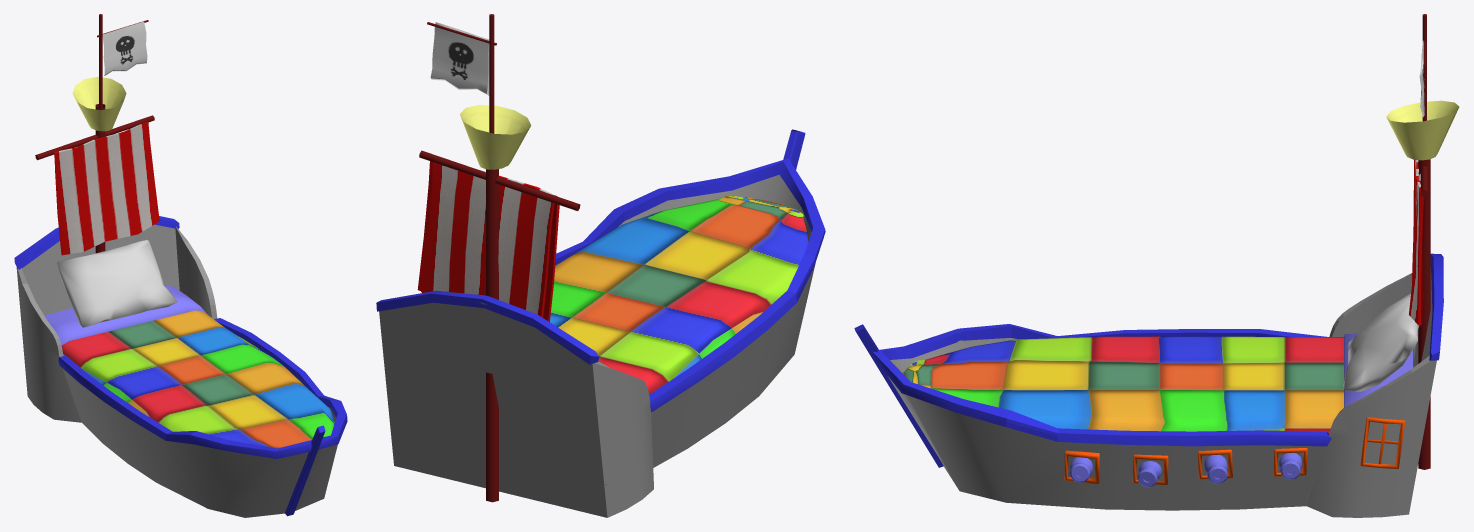
The model's file is Shipbed.FBX.
3 views of the same model, side by side, from view 1: azimuth 30°, elevation 25°; view 2: azimuth 150°, elevation 25°; view 3: azimuth 270°, elevation 25° (orthographic). The views are drawn at different scales.
Visible parts, largest first — view 1: Shipbed; view 2: Shipbed; view 3: Shipbed.
Part boxes in pixels (bbox=[...]): Shipbed: bbox=[14, 14, 347, 517]; Shipbed: bbox=[376, 14, 825, 517]; Shipbed: bbox=[854, 14, 1459, 517].
Size of the model in its own units: 7.85 by 14.43 by 17.46.
